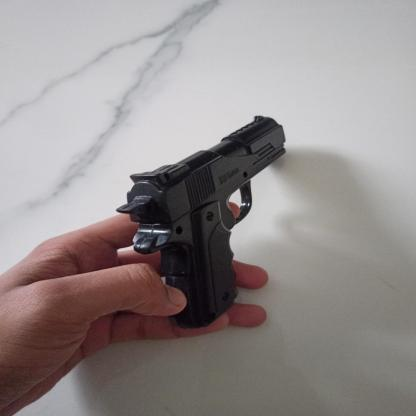handgun: (118, 115, 288, 331)
